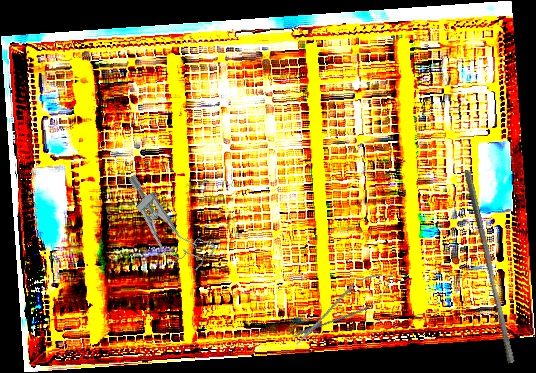Micro Scissor: (285, 262, 401, 354)
Pusher: (456, 168, 522, 365)
Speculum: (110, 168, 220, 279)
